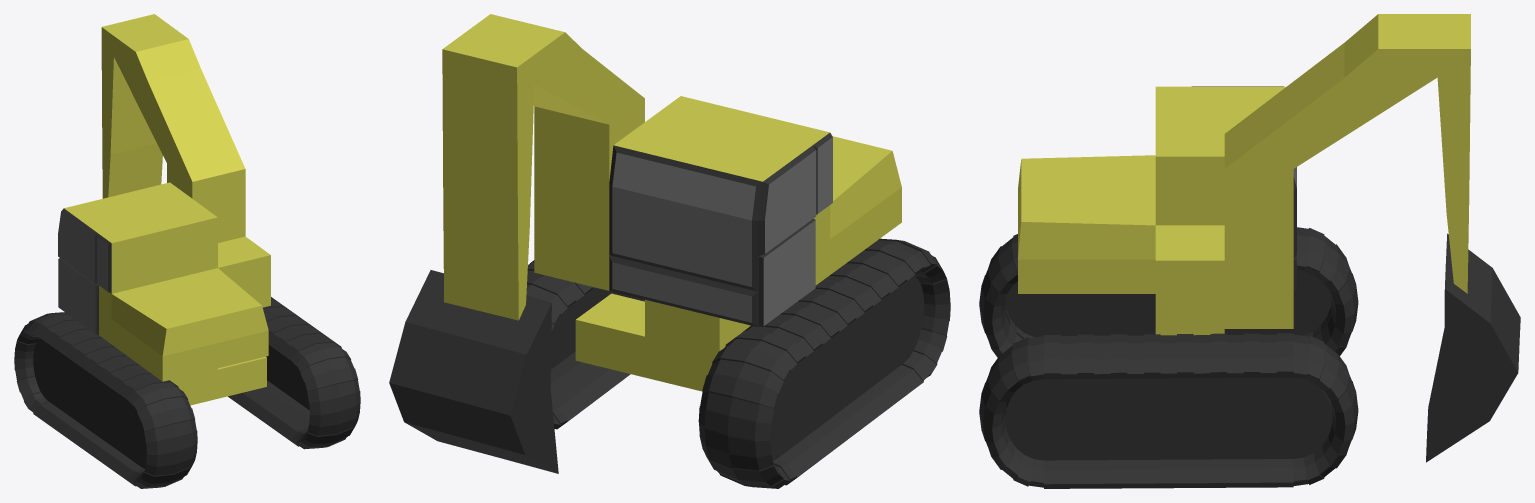
Rendered from DiggerColoured.fbx.
3 renders of one model, left to right at view 1: azimuth 30°, elevation 25°; view 2: azimuth 150°, elevation 25°; view 3: azimuth 270°, elevation 25°, orthographic. The views are drawn at different scales.
Visible parts, largest first — view 1: Torus.002; view 2: Torus.002; view 3: Torus.002.
Part boxes in pixels (left/top/right/bottom): Torus.002: left=14, top=14, right=360, bottom=488; Torus.002: left=389, top=14, right=950, bottom=488; Torus.002: left=979, top=14, right=1520, bottom=488.
Bounding box in the file's own units: 500 × 700 × 800.
